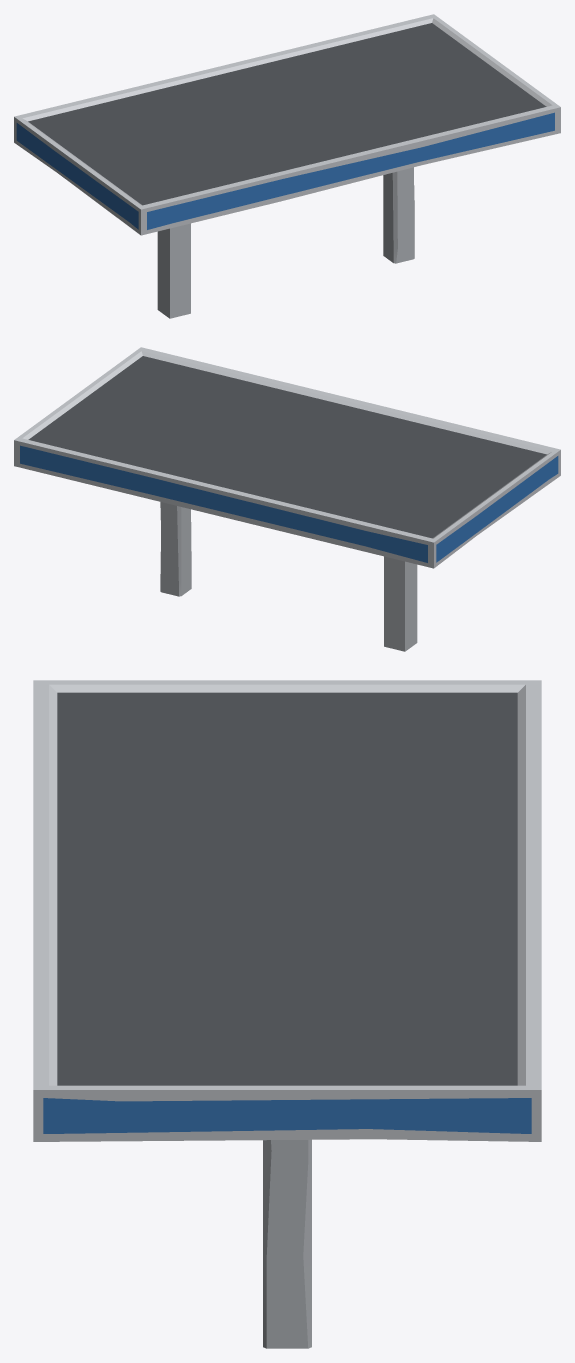
File: SM_Prop_Gaspump_Cover_01.fbx
The picture shows the model from 3 angles, top to bottom: view 1: azimuth 30°, elevation 25°; view 2: azimuth 150°, elevation 25°; view 3: azimuth 270°, elevation 25°; orthographic projection. The views are drawn at different scales.
Parts seen in each view (by area): view 1: SM_Prop_Gaspump_Cover_01; view 2: SM_Prop_Gaspump_Cover_01; view 3: SM_Prop_Gaspump_Cover_01.
Boxes of the visible parts, <box> form: SM_Prop_Gaspump_Cover_01: <box>14,14,560,318</box>; SM_Prop_Gaspump_Cover_01: <box>14,347,560,651</box>; SM_Prop_Gaspump_Cover_01: <box>33,680,541,1348</box>.
Bounding box in the file's own units: 1338 × 524 × 701.
